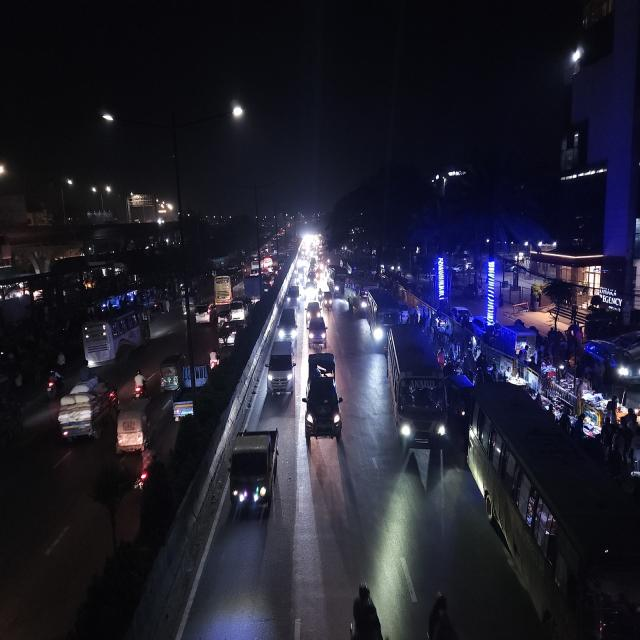bus: (465, 388, 639, 640), (382, 324, 448, 461), (83, 304, 151, 365), (364, 286, 400, 345), (213, 265, 245, 304), (344, 274, 368, 316), (328, 266, 347, 296)
car: (302, 352, 343, 444), (267, 336, 296, 403), (306, 316, 328, 350), (278, 306, 298, 341), (217, 320, 239, 350), (228, 298, 250, 324), (194, 300, 215, 326), (304, 300, 324, 323), (284, 281, 300, 307), (322, 288, 334, 310)
cng: (116, 394, 154, 453), (158, 348, 184, 392)
motorcycle: (136, 439, 158, 498), (43, 366, 65, 401), (131, 368, 147, 398), (207, 344, 221, 374)
pickup_van: (226, 426, 280, 522), (57, 384, 125, 438), (171, 364, 207, 426)
truck: (245, 274, 263, 308)
